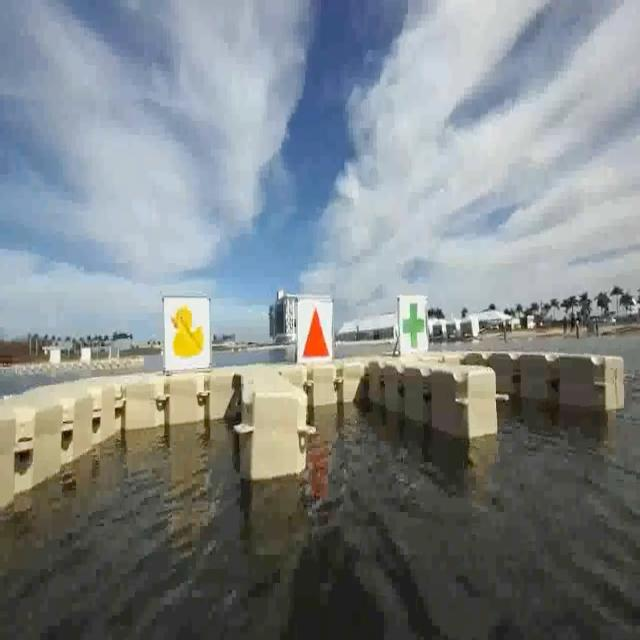blue-cross: (402, 298, 426, 360)
red-dot: (296, 296, 332, 364)
yellow-duck: (169, 303, 204, 360)
